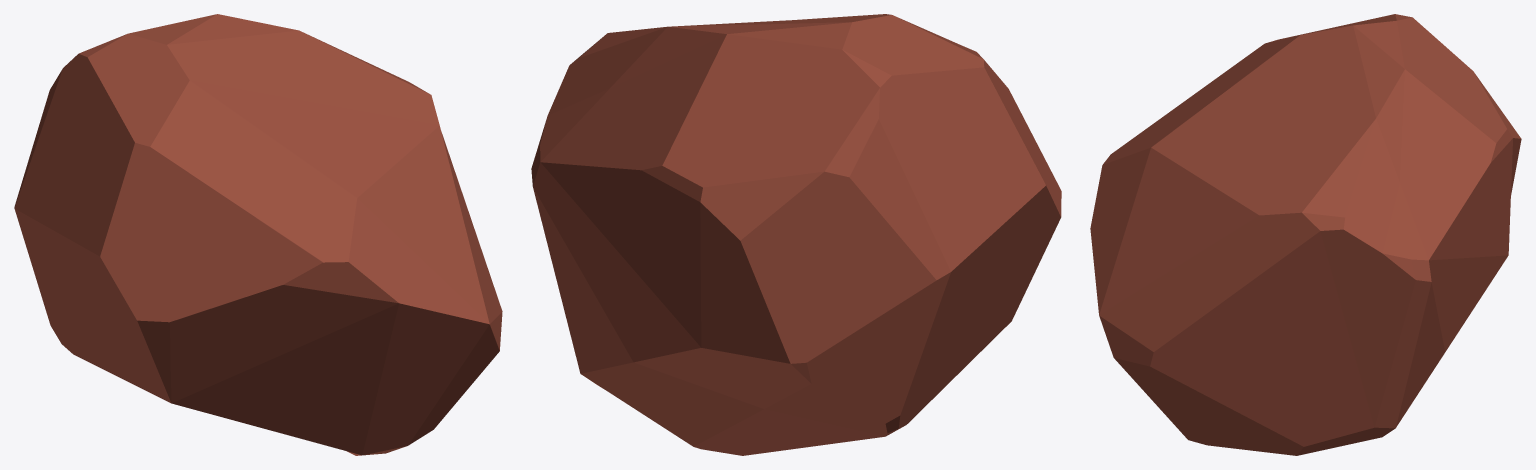
File: Rock_Small_001.fbx
The picture shows the model from 3 angles, left to right: view 1: azimuth 30°, elevation 25°; view 2: azimuth 150°, elevation 25°; view 3: azimuth 270°, elevation 25°; orthographic projection. The views are drawn at different scales.
Visible parts, largest first — view 1: Rock_Small_001; view 2: Rock_Small_001; view 3: Rock_Small_001.
Boxes of the visible parts, left/top/right/bottom form: Rock_Small_001: left=14, top=14, right=502, bottom=455; Rock_Small_001: left=531, top=14, right=1061, bottom=455; Rock_Small_001: left=1090, top=14, right=1521, bottom=455.
Size of the model in its own units: 249 by 249 by 276.
